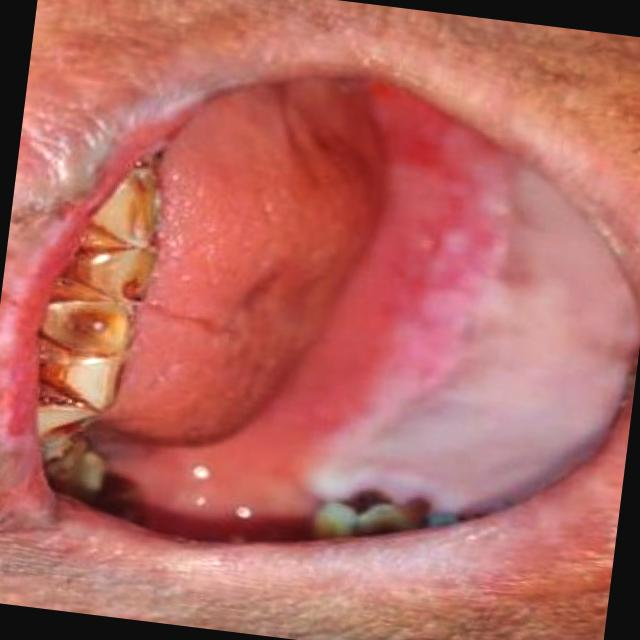Cancer: (350, 148, 614, 537)
